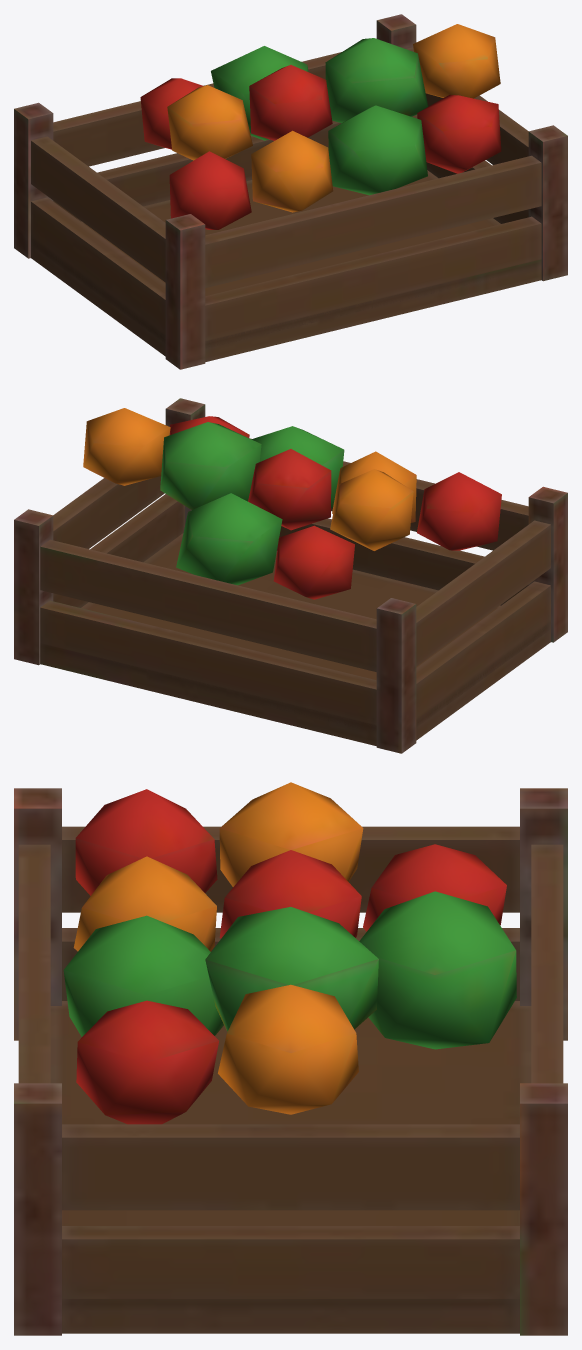
Rendered from food.glb.
3 views of the same model, one above another, from view 1: azimuth 30°, elevation 25°; view 2: azimuth 150°, elevation 25°; view 3: azimuth 270°, elevation 25° (orthographic). The views are drawn at different scales.
Parts seen in each view (by area): view 1: te_res_food; view 2: te_res_food; view 3: te_res_food.
Boxes of the visible parts, box(x1,y1,x2,y2) form: te_res_food: box(14, 14, 567, 369); te_res_food: box(14, 398, 567, 753); te_res_food: box(14, 782, 567, 1335).
Bounding box in the file's own units: 0.4784 × 0.2336 × 0.346.
Materials: 1 (1 with a texture image).
